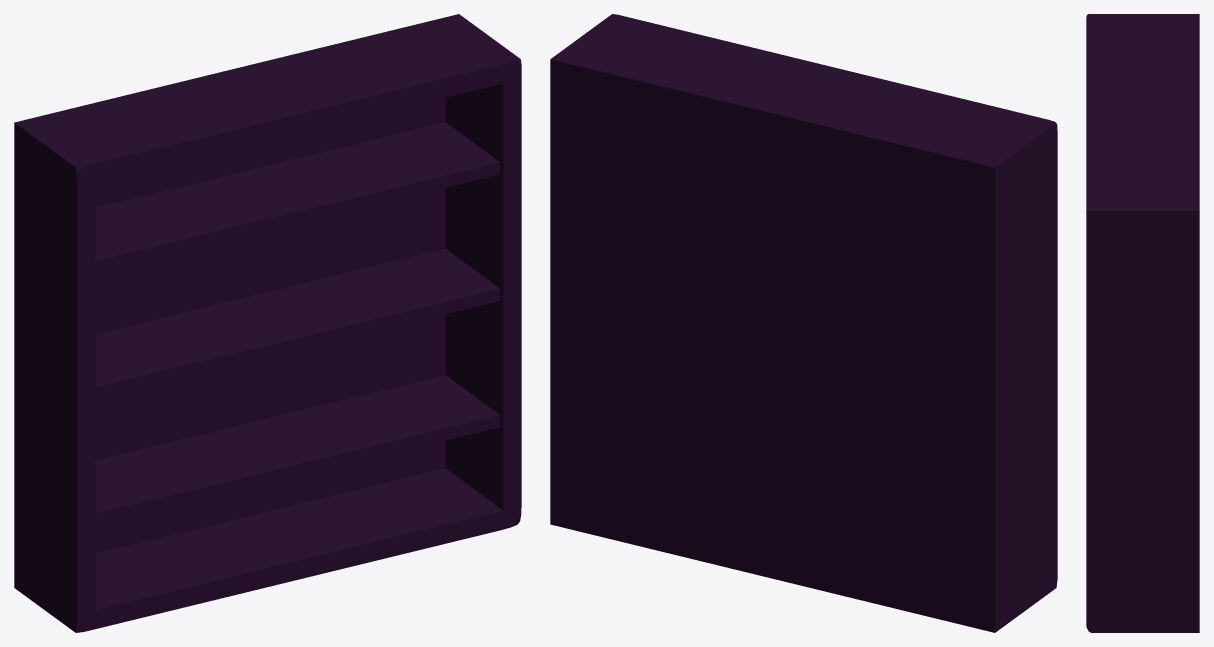
The model's file is SHELF.glb.
3 views of the same model, side by side, from view 1: azimuth 30°, elevation 25°; view 2: azimuth 150°, elevation 25°; view 3: azimuth 270°, elevation 25° (orthographic). The views are drawn at different scales.
Parts seen in each view (by area): view 1: Cube; view 2: Cube; view 3: Cube.
Boxes of the visible parts, x1=… form: Cube: x1=14, y1=14, x2=521, y2=632; Cube: x1=550, y1=14, x2=1057, y2=632; Cube: x1=1086, y1=14, x2=1199, y2=632.
Size of the model in its own units: 2 by 2 by 0.4871.
